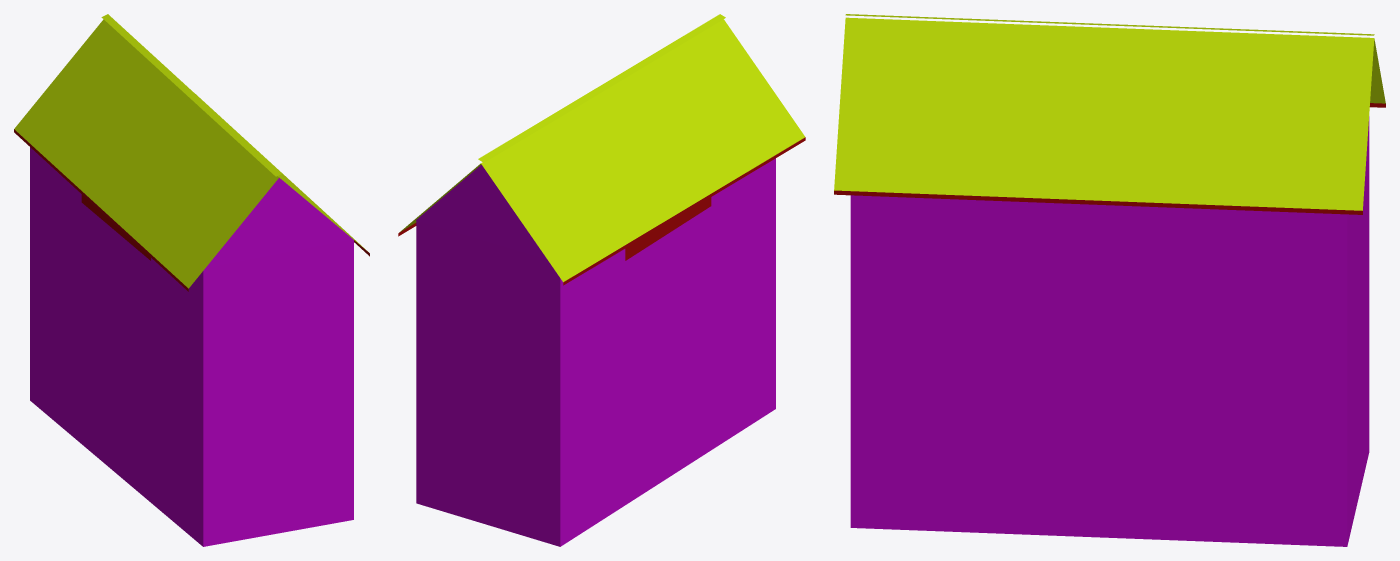
Rendered from bgj_352.glb.
The picture shows the model from 3 angles, left to right: view 1: azimuth 30°, elevation 25°; view 2: azimuth 150°, elevation 25°; view 3: azimuth 270°, elevation 25°; orthographic projection. The views are drawn at different scales.
Parts seen in each view (by area): view 1: bgj_352; view 2: bgj_352; view 3: bgj_352.
Boxes of the visible parts, x1,y1,x2,y2 form: bgj_352: [14, 14, 369, 546]; bgj_352: [398, 14, 805, 546]; bgj_352: [834, 14, 1385, 546].
Size of the model in its own units: 7.83 by 13.36 by 14.32.
